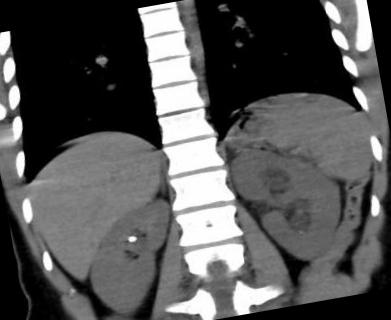Tas_Var: (126, 233, 138, 244)
